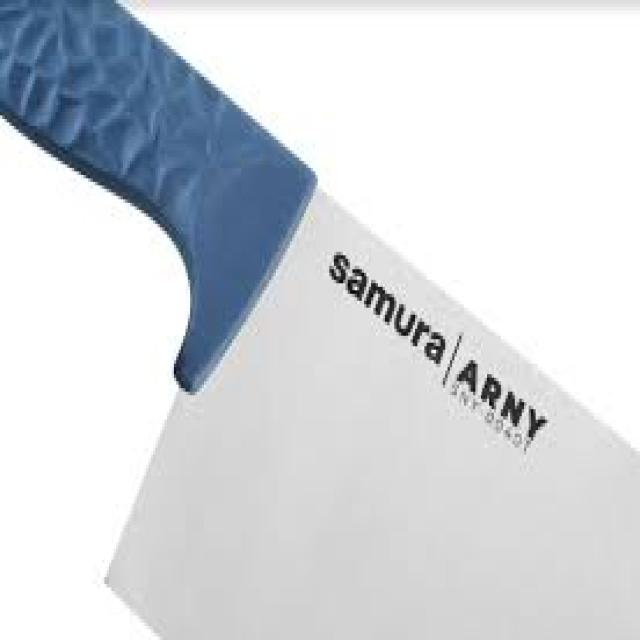Knife: (0, 0, 638, 637)
